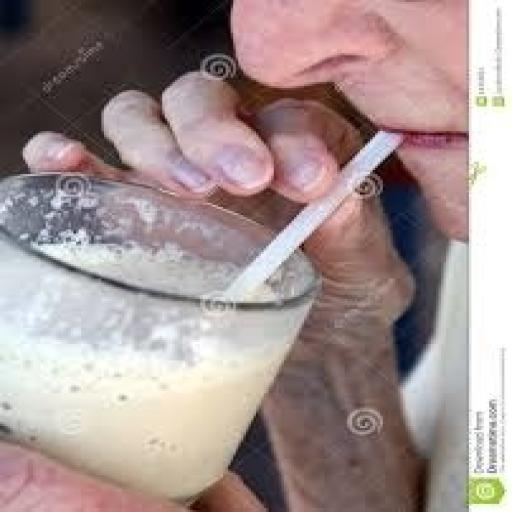drinking: (0, 168, 324, 506)
